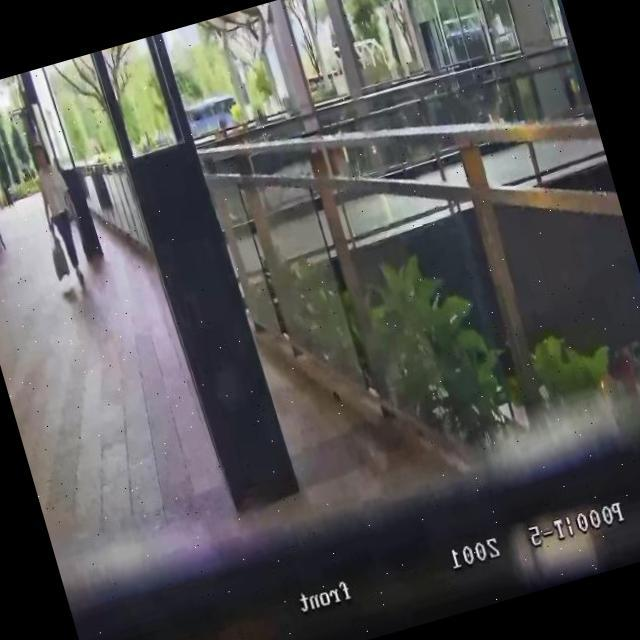person: (26, 138, 94, 288)
